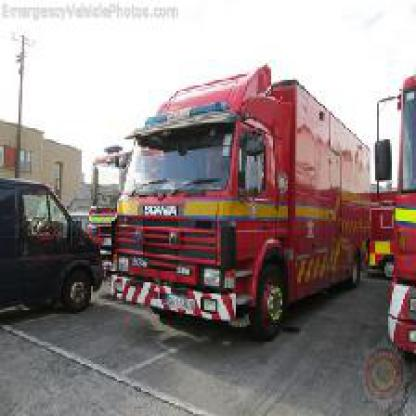emergency: (100, 65, 372, 344)
